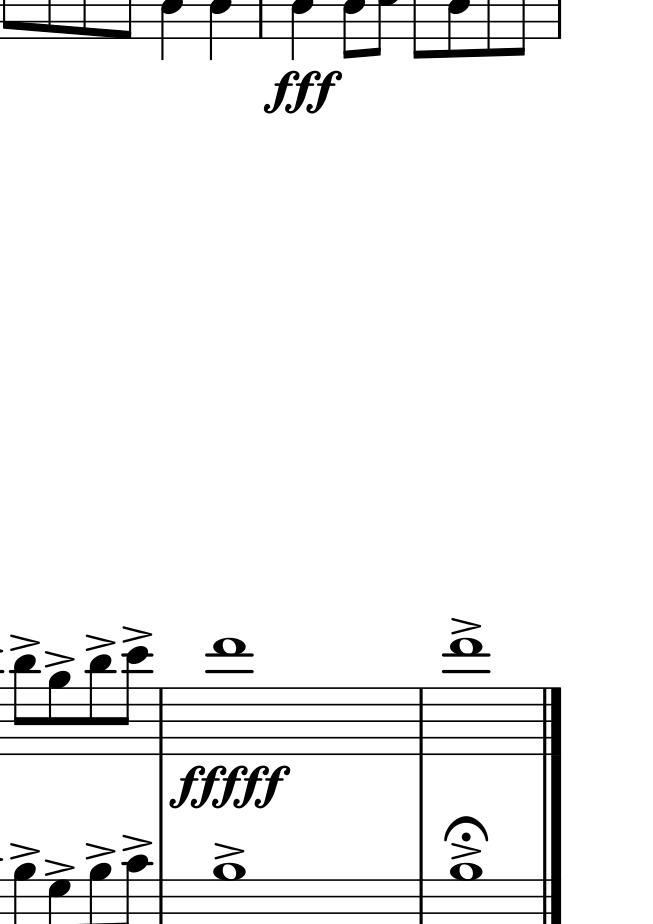1_12: (208, 638, 251, 755), (445, 635, 486, 757)
8_11: (10, 654, 39, 757), (87, 654, 115, 757)
8_12: (116, 644, 152, 756)
8_9: (47, 671, 72, 758)
Accent_above: (448, 842, 484, 861), (120, 831, 154, 851), (7, 632, 42, 651), (7, 841, 42, 860), (82, 842, 117, 861), (211, 842, 246, 861), (82, 634, 118, 652), (42, 858, 77, 876), (42, 650, 77, 667), (449, 617, 482, 633), (121, 625, 151, 641)
Fermata_above: (444, 815, 488, 842)
Final_barline: (538, 688, 565, 754)
Single_barline: (412, 688, 430, 752), (152, 689, 168, 755)
fff: (262, 67, 341, 119)
fffff: (164, 763, 296, 810)
